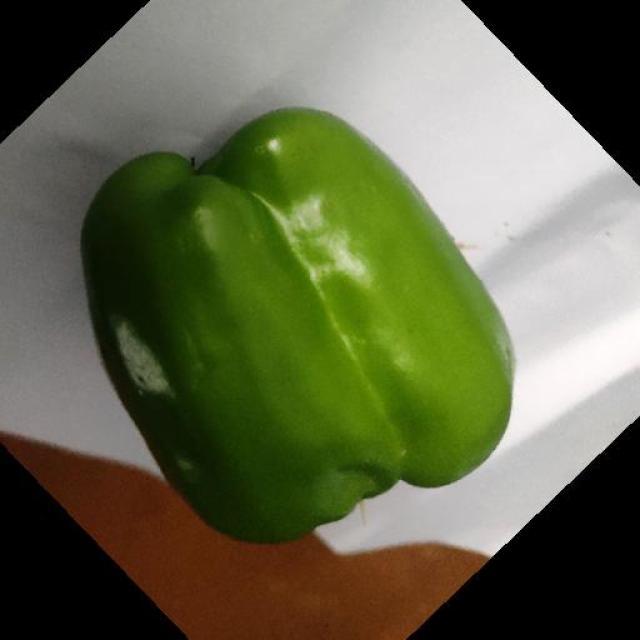Stale_Capsicum: (64, 135, 492, 513)
